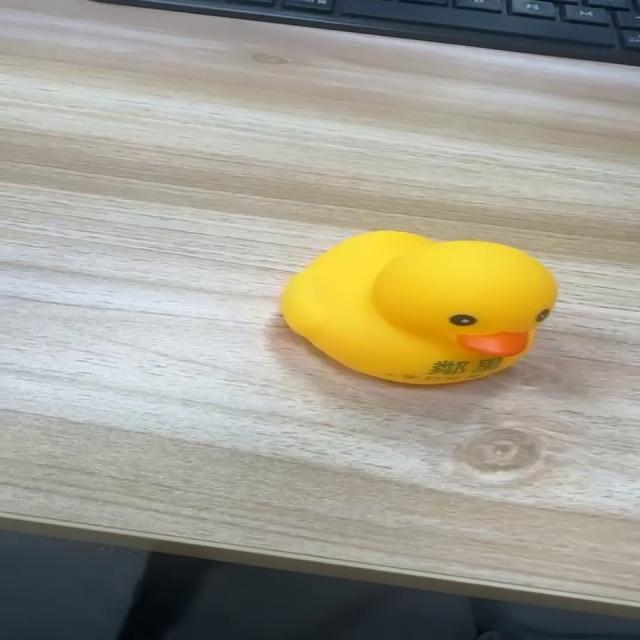yellow_duck: (277, 228, 558, 385)
